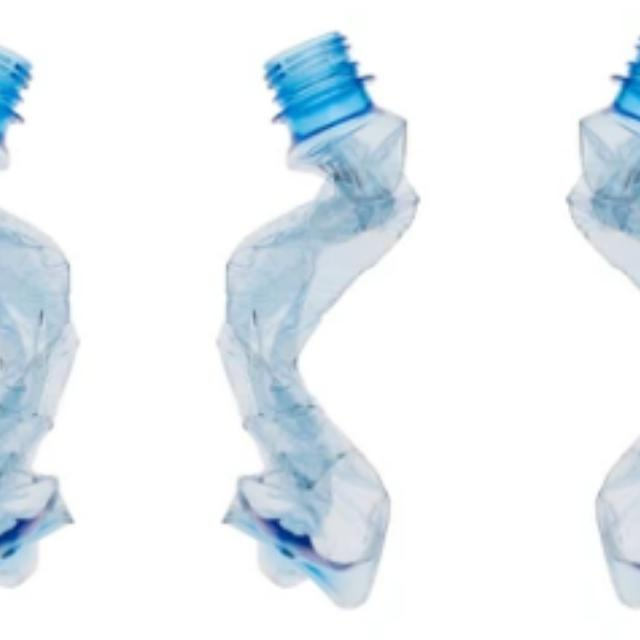Plastic: (196, 12, 428, 636), (0, 12, 97, 636), (558, 12, 640, 636)
